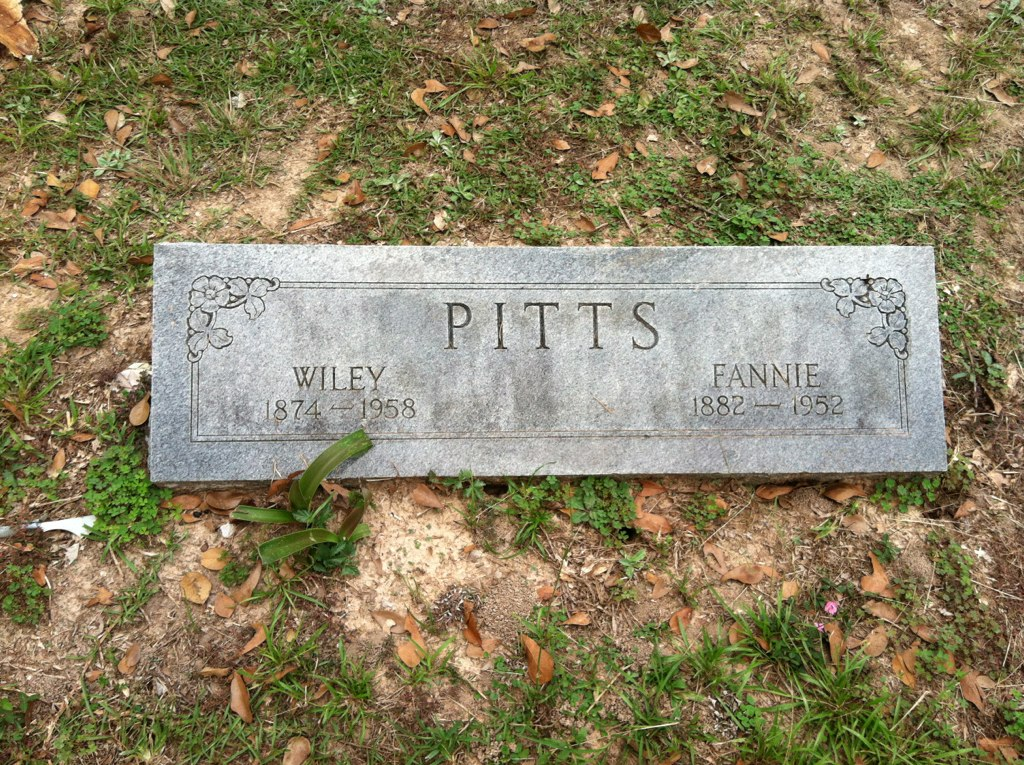flat: (127, 219, 952, 499)
